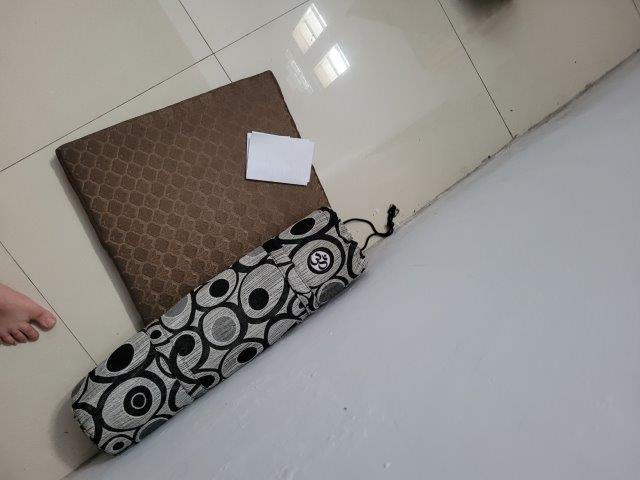kertas: (245, 132, 314, 186)
